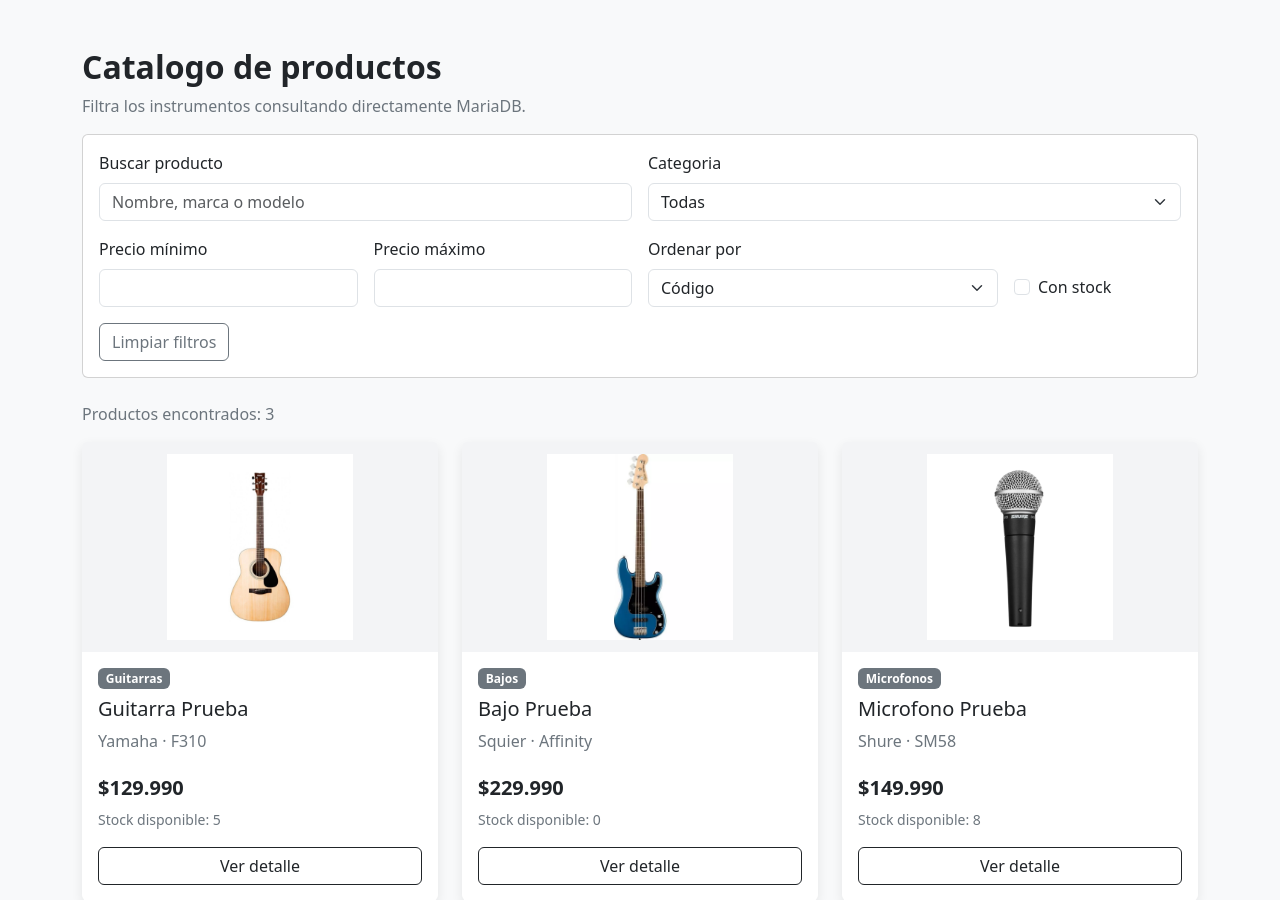
Test: Catalogo con filtros REST en MariaDB › rechaza un rango de precios invertido sin consultar la API
Expected: the heading "Guitarra Prueba" is shown, top-left (98, 695), bottom-right (249, 722)
Type "300000" into the number field labelled "Precio mínimo" at (228, 288), box top-left (99, 269), bottom-right (358, 307)
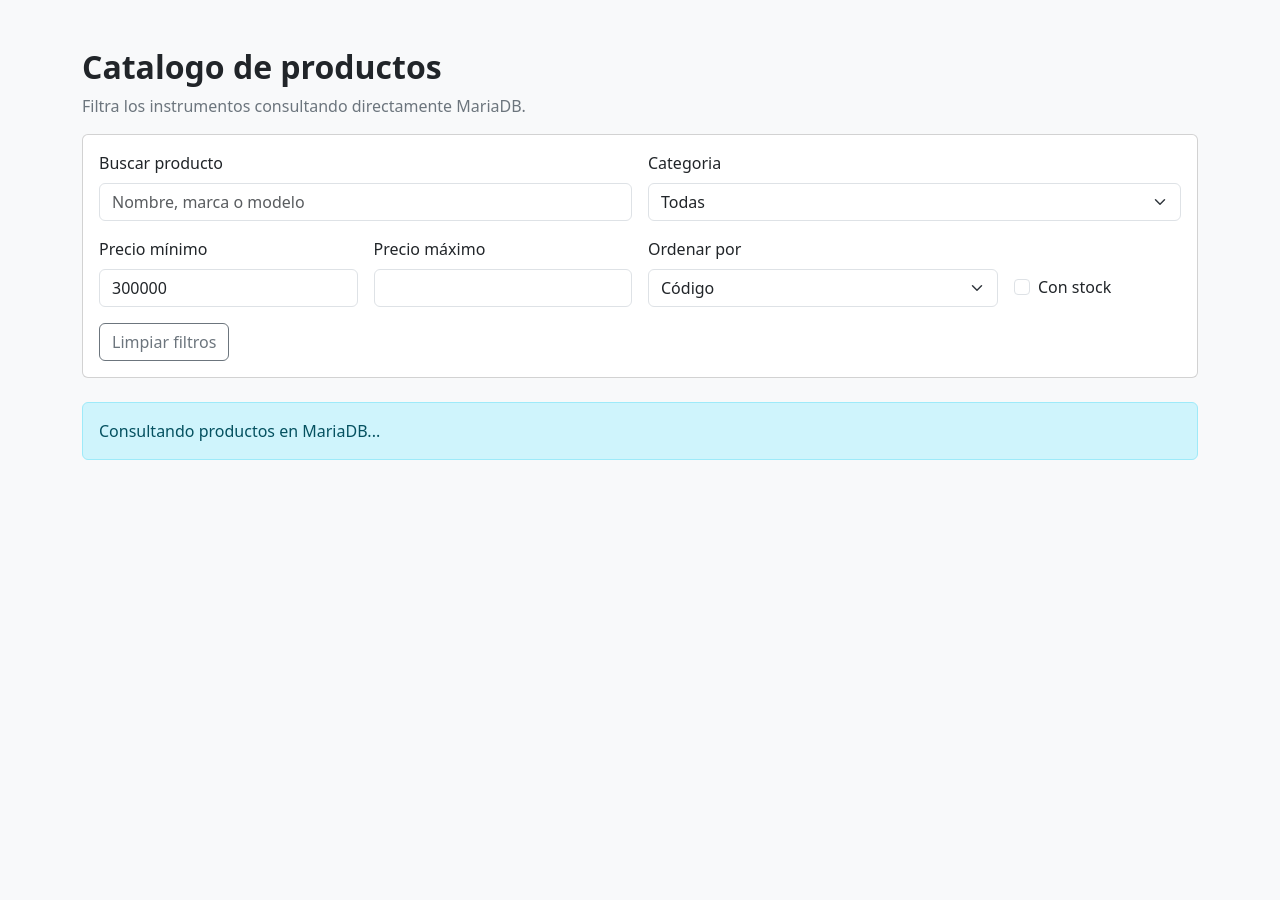
Type "10000" into the number field labelled "Precio máximo" at (503, 288), box top-left (374, 269), bottom-right (632, 307)
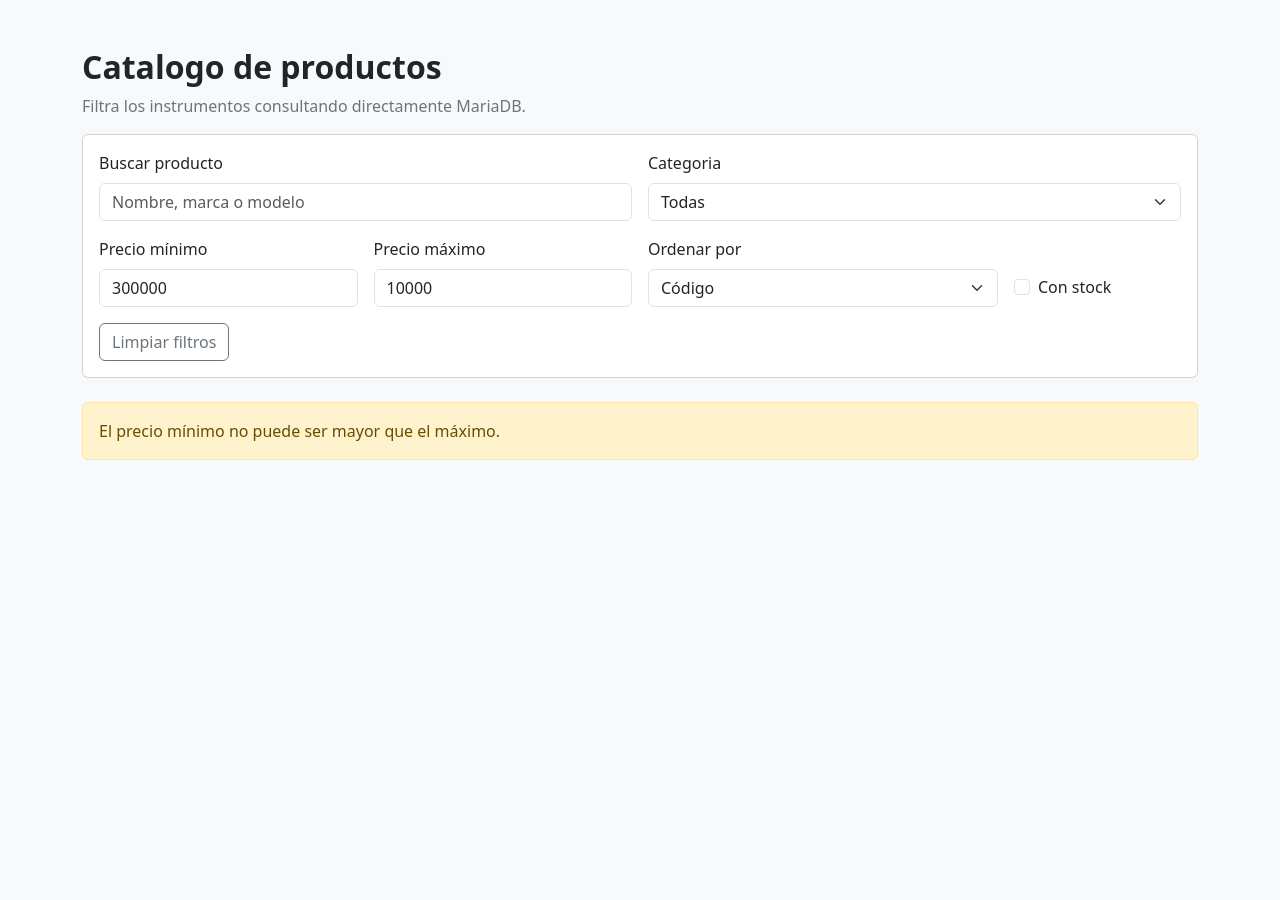
Expected: the message shows "mínimo no puede ser mayor", top-left (99, 420), bottom-right (500, 442)
